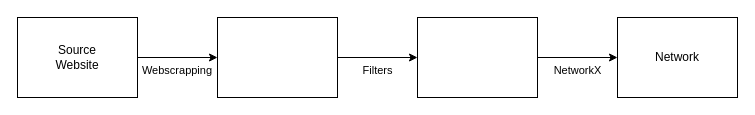
This 755x115 diagram has some shape labels left out. The centre of each missing label's shape, as x and y in pixels:
Clean data: (x=477, y=57)
Raw data: (x=277, y=57)
